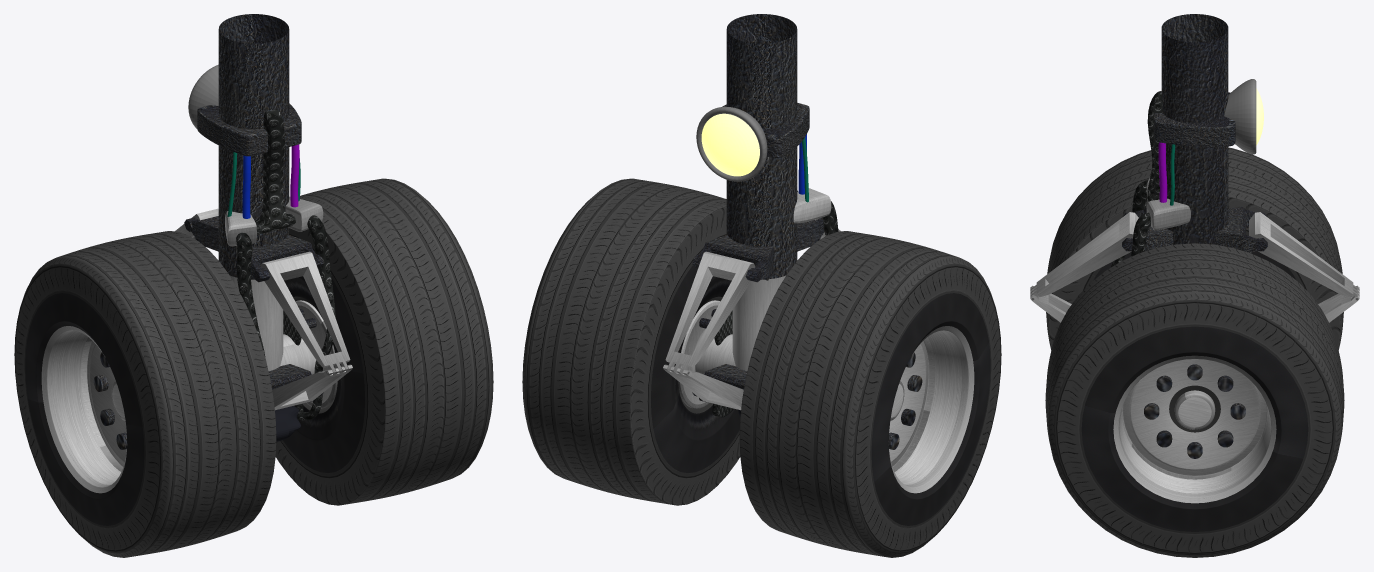
The model's file is landing-gear.fbx.
3 views of the same model, side by side, from view 1: azimuth 30°, elevation 25°; view 2: azimuth 150°, elevation 25°; view 3: azimuth 270°, elevation 25° (orthographic). The views are drawn at different scales.
Parts seen in each view (by area): view 1: Rodas, Pistao, Suporte, Cabos, Lanterna, Eixo; view 2: Rodas, Pistao, Suporte, Lanterna, Eixo, Cabos; view 3: Rodas, Pistao, Suporte, Lanterna, Cabos, Eixo.
Boxes of the visible parts, x1,y1,x2,y2 form: Rodas: (14, 178, 493, 557); Pistao: (218, 14, 300, 441); Suporte: (175, 208, 352, 410); Cabos: (225, 109, 335, 420); Lanterna: (188, 64, 301, 156); Eixo: (111, 300, 337, 420); Rodas: (522, 178, 1001, 557); Pistao: (726, 14, 797, 416); Suporte: (663, 217, 840, 410); Lanterna: (696, 103, 809, 181); Eixo: (678, 300, 904, 420); Cabos: (793, 134, 838, 236); Rodas: (1045, 147, 1344, 557); Pistao: (1161, 14, 1228, 244); Suporte: (1030, 206, 1359, 322); Lanterna: (1154, 79, 1263, 154); Cabos: (1111, 91, 1190, 267); Eixo: (1174, 390, 1215, 429).
Bounding box in the file's own units: 259 × 346 × 225.
